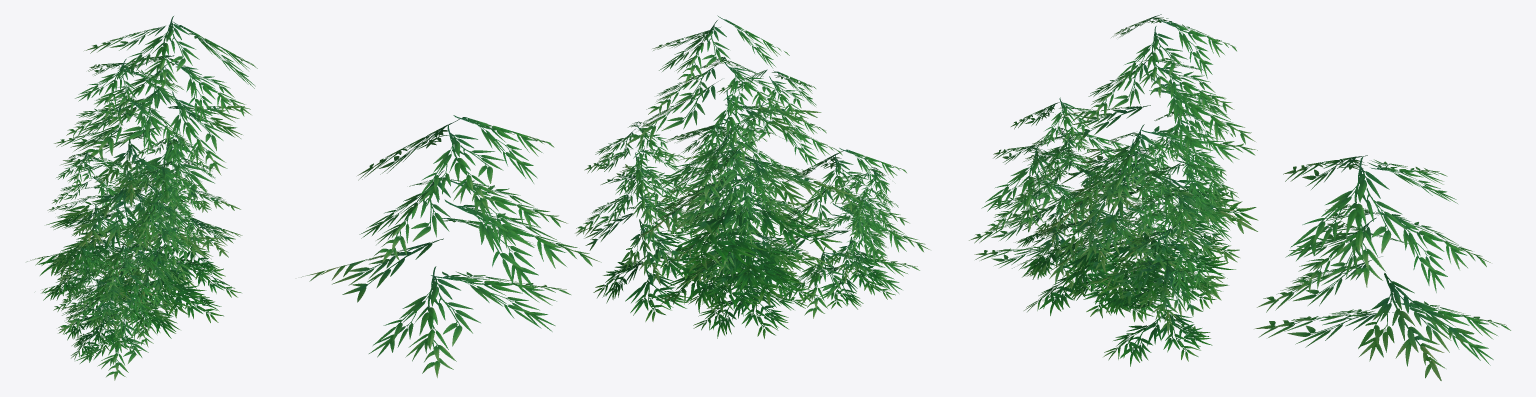
Rendered from Area_13_59.fbx.
3 views of the same model, side by side, from view 1: azimuth 30°, elevation 25°; view 2: azimuth 150°, elevation 25°; view 3: azimuth 270°, elevation 25° (orthographic). The views are drawn at different scales.
Parts seen in each view (by area): view 1: Area_13_59; view 2: Area_13_59; view 3: Area_13_59.
Boxes of the visible parts, x1=… form: Area_13_59: x1=27, y1=16, x2=257, y2=380; Area_13_59: x1=301, y1=15, x2=929, y2=377; Area_13_59: x1=969, y1=14, x2=1510, y2=380.
Size of the model in its own units: 2223 by 1490 by 2457.
